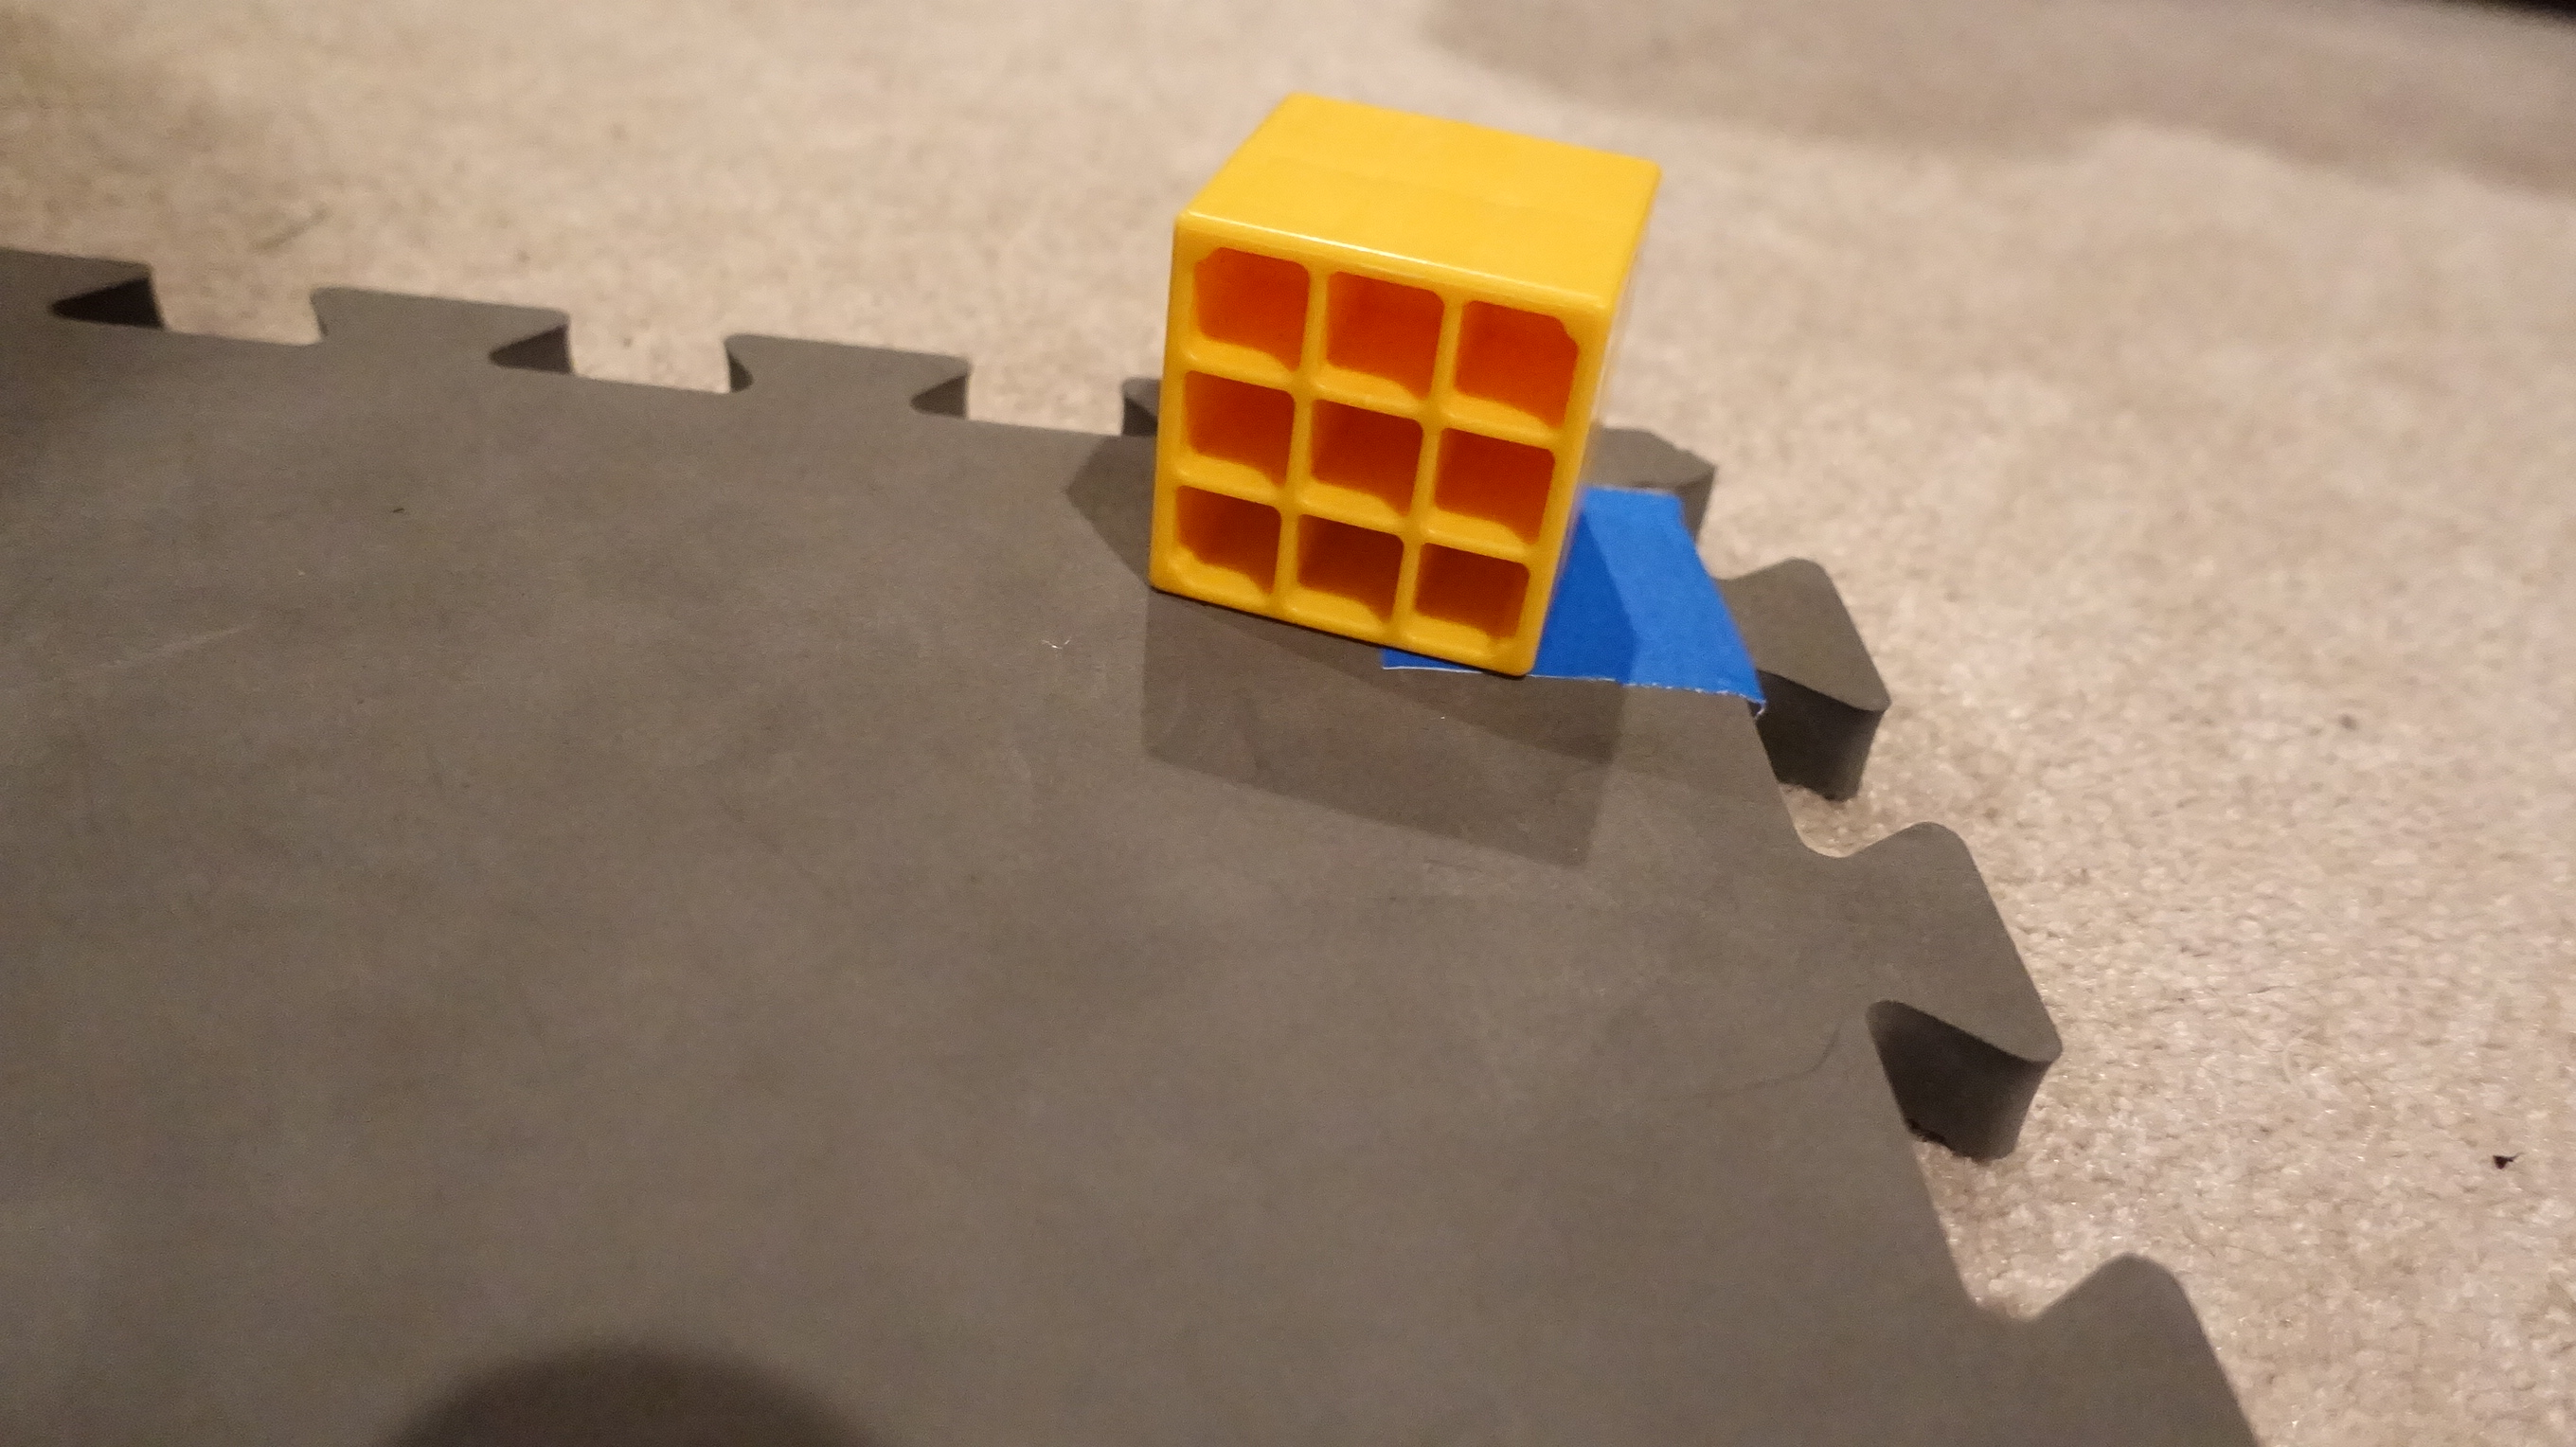gold: (1129, 87, 1675, 693)
